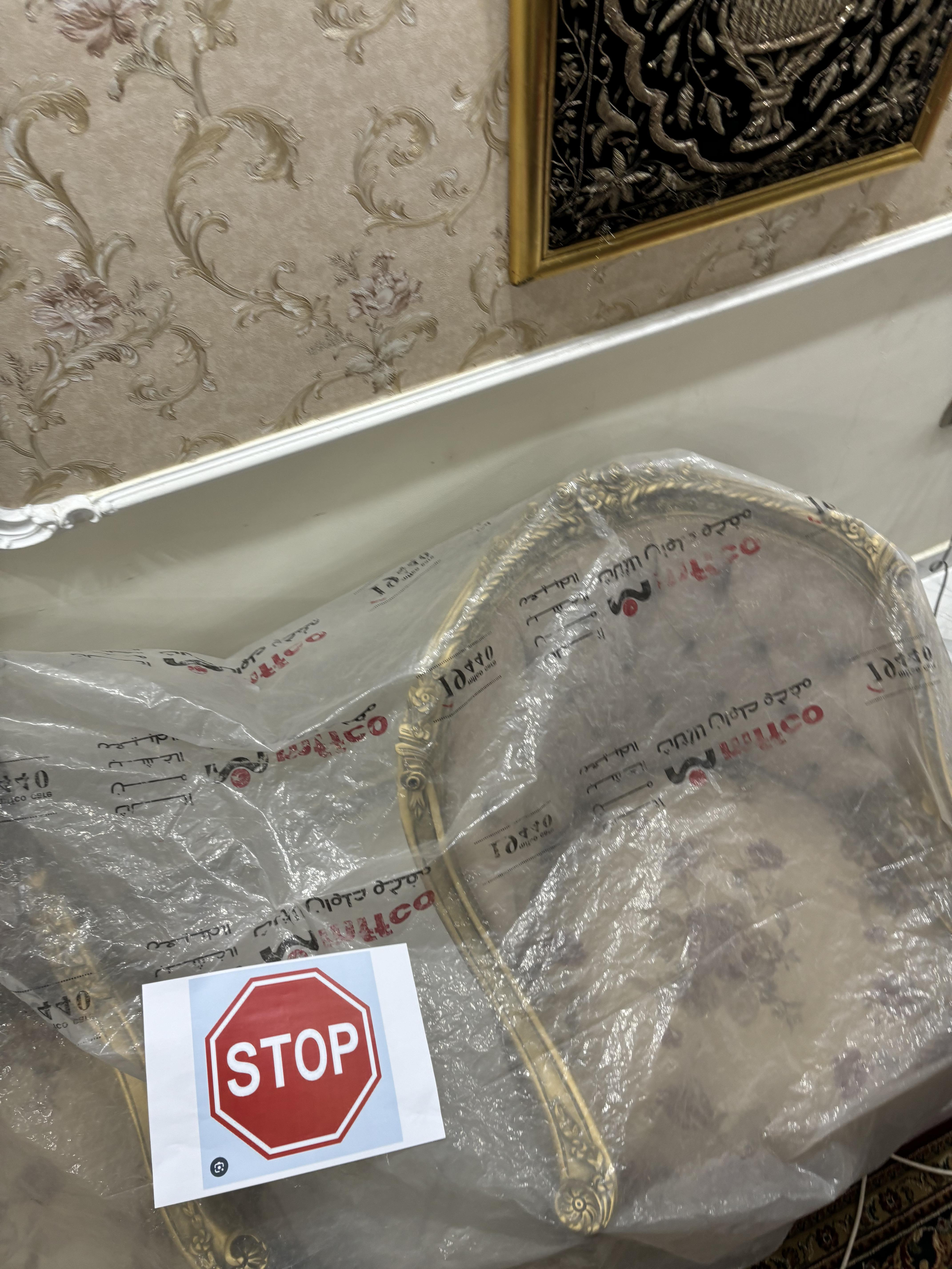Stop: (201, 963, 389, 1159)
